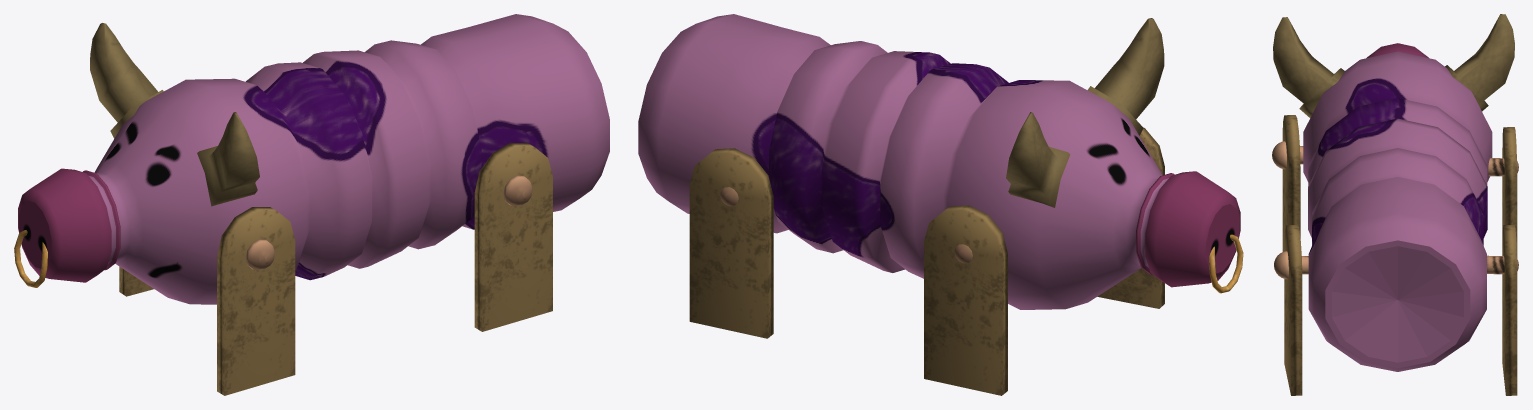
File: BottleCow.fbx
3 views of the same model, side by side, from view 1: azimuth 30°, elevation 25°; view 2: azimuth 150°, elevation 25°; view 3: azimuth 270°, elevation 25° (orthographic). The views are drawn at different scales.
Visible parts, largest first — view 1: BottleCow; view 2: BottleCow; view 3: BottleCow.
Boxes of the visible parts, x1=… form: BottleCow: x1=14, y1=14, x2=609, y2=395; BottleCow: x1=638, y1=14, x2=1243, y2=395; BottleCow: x1=1272, y1=14, x2=1518, y2=395.
Bounding box in the file's own units: 153 × 75.56 × 69.65.
